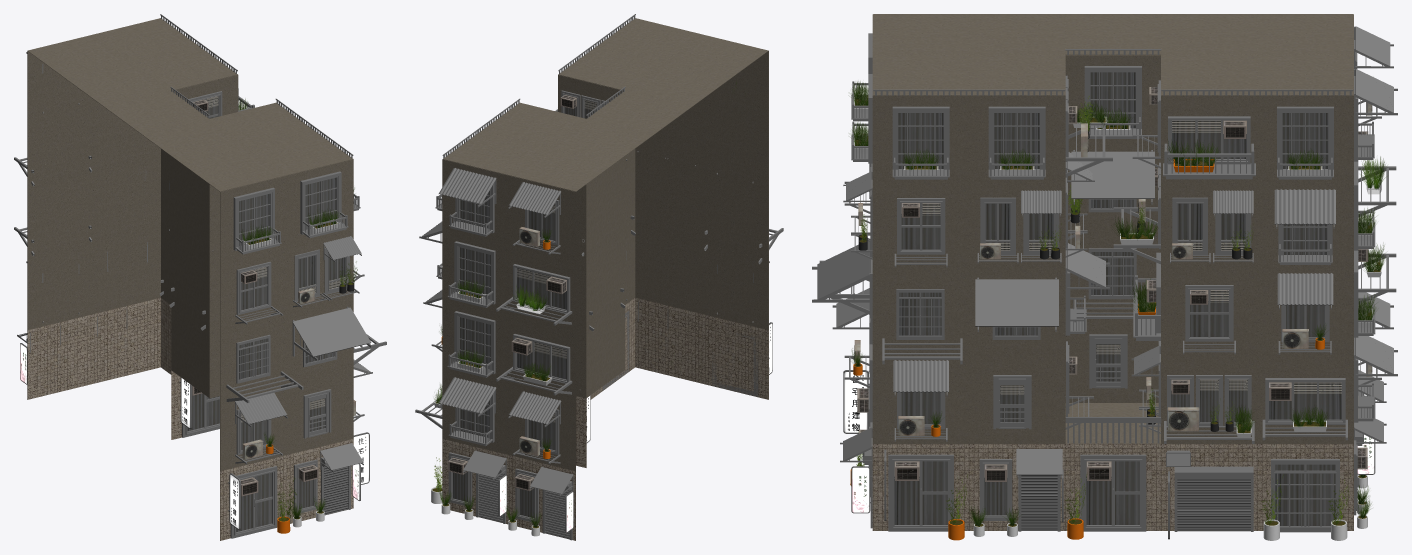
The model's file is building_brick_c.glb.
The picture shows the model from 3 angles, left to right: view 1: azimuth 30°, elevation 25°; view 2: azimuth 150°, elevation 25°; view 3: azimuth 270°, elevation 25°; orthographic projection. The views are drawn at different scales.
Visible parts, largest first — view 1: BrickBuilding_2; view 2: BrickBuilding_2; view 3: BrickBuilding_2.
Boxes of the visible parts, <box> form: BrickBuilding_2: <box>14,14,386,540</box>; BrickBuilding_2: <box>415,14,783,540</box>; BrickBuilding_2: <box>812,14,1397,540</box>.
Size of the model in its own units: 5.27 by 10.13 by 12.2.
6 materials, 6 textured.
